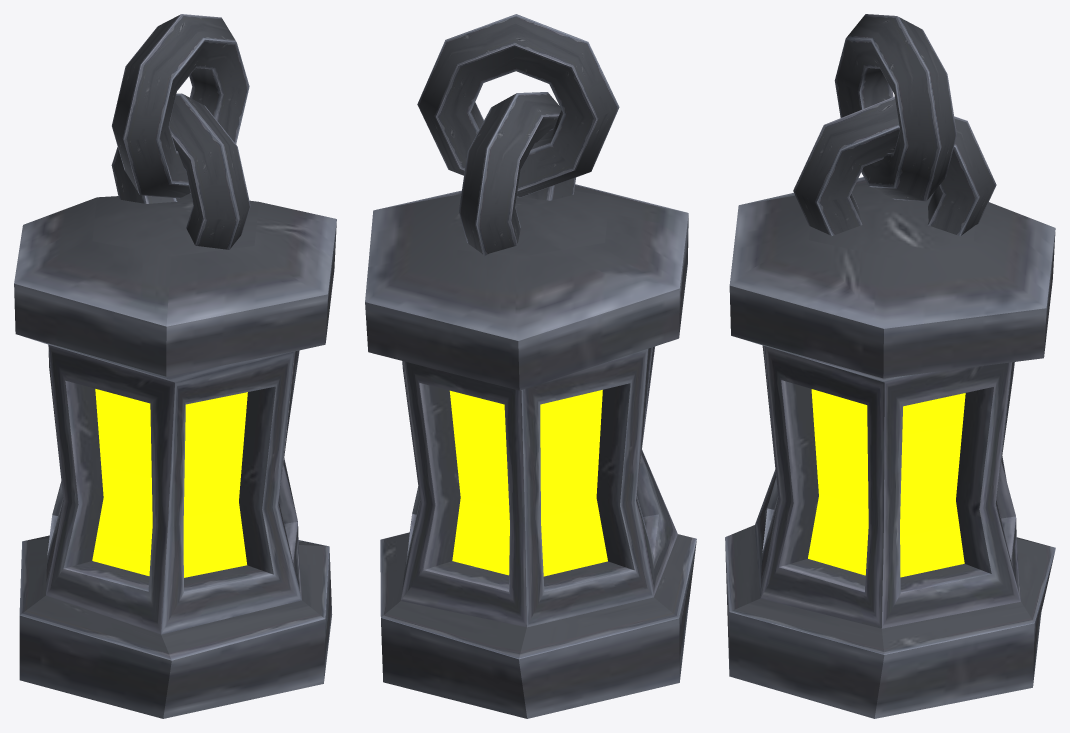
Rendered from SM_PROP_rowboat_lantern.glb.
3 renders of one model, left to right at view 1: azimuth 30°, elevation 25°; view 2: azimuth 150°, elevation 25°; view 3: azimuth 270°, elevation 25°, orthographic.
Visible parts, largest first — view 1: SM_PROP_rowboat_lantern_EXPORT; view 2: SM_PROP_rowboat_lantern_EXPORT; view 3: SM_PROP_rowboat_lantern_EXPORT.
Boxes of the visible parts, x1,y1,x2,y2 form: SM_PROP_rowboat_lantern_EXPORT: (14, 14, 336, 718); SM_PROP_rowboat_lantern_EXPORT: (365, 14, 696, 718); SM_PROP_rowboat_lantern_EXPORT: (725, 14, 1055, 718).
Size of the model in its own units: 0.3646 by 0.7011 by 0.3288.
Materials: 2 (2 with a texture image).
